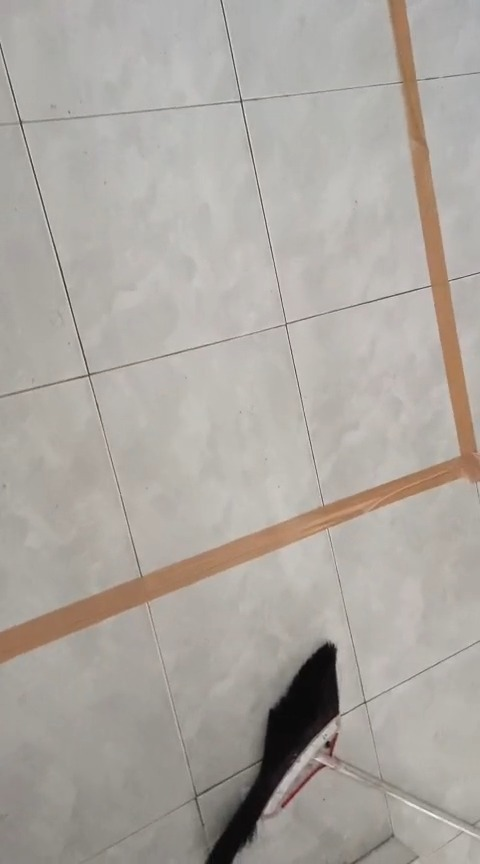floor marking: (0, 0, 479, 663)
